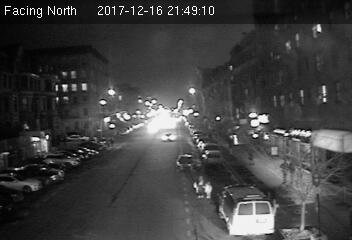car: (175, 154, 197, 171), (202, 149, 223, 166), (160, 131, 178, 144)
police: (215, 182, 279, 236)
